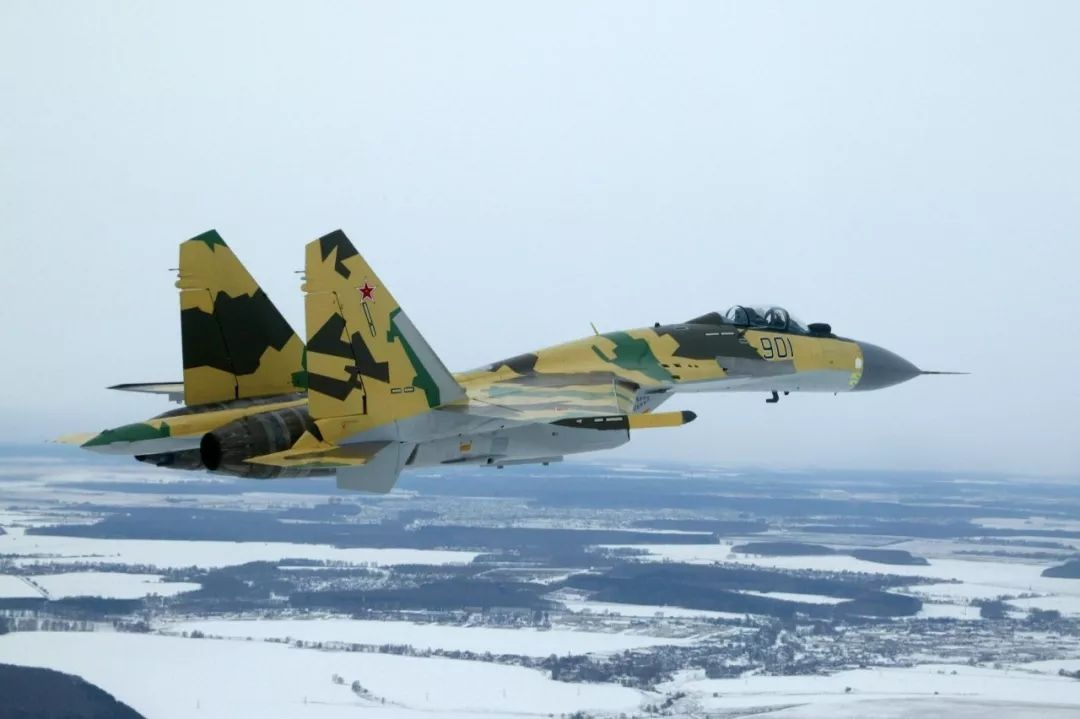airplane: (42, 221, 973, 514)
